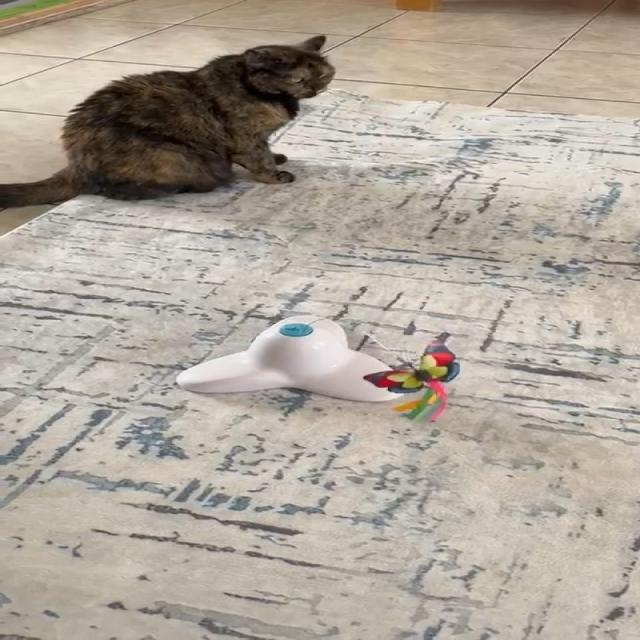authorized: (0, 34, 336, 212)
